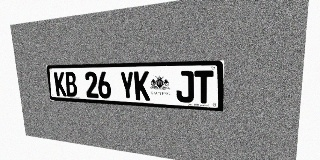2: (84, 72, 99, 98)
6: (97, 71, 111, 99)
B: (64, 72, 78, 97)
J: (176, 71, 194, 103)
K: (134, 71, 150, 101), (54, 72, 67, 96)
T: (194, 70, 213, 104)
Y: (119, 71, 135, 100)
